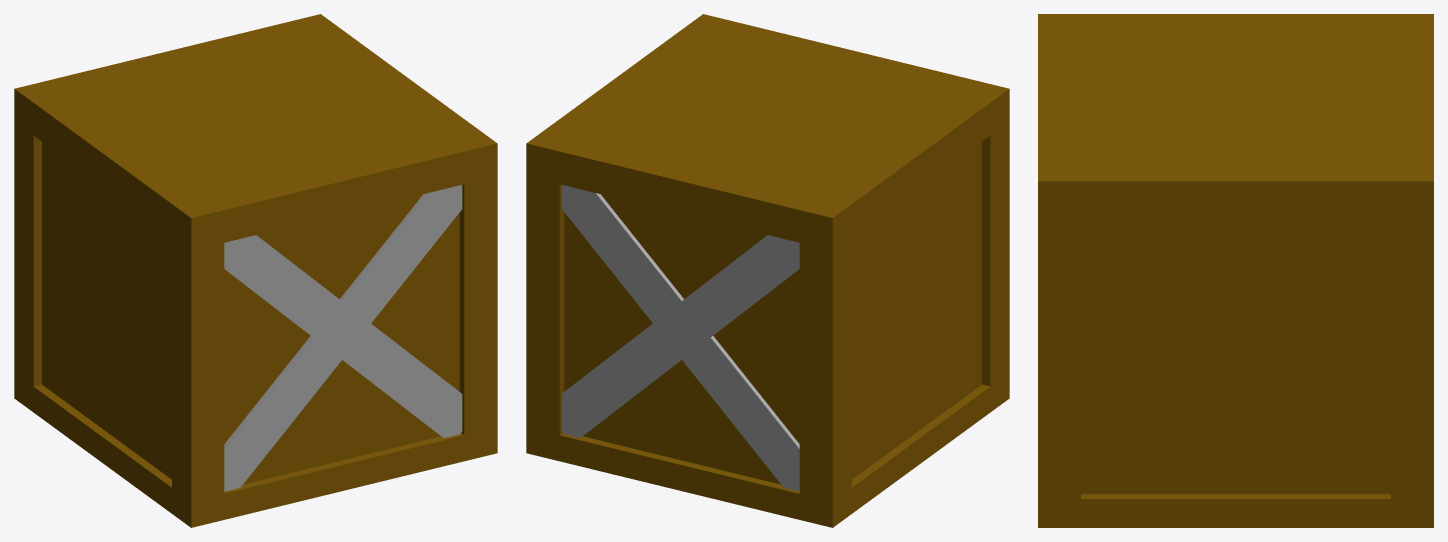
File: Caja Pequeña X.fbx
3 renders of one model, left to right at view 1: azimuth 30°, elevation 25°; view 2: azimuth 150°, elevation 25°; view 3: azimuth 270°, elevation 25°, orthographic. The views are drawn at different scales.
Parts seen in each view (by area): view 1: Caja_x_pequeña; view 2: Caja_x_pequeña; view 3: Caja_x_pequeña.
Part boxes in pixels (x1,y1,x2,y2): Caja_x_pequeña: (14,14,497,527); Caja_x_pequeña: (526,14,1009,527); Caja_x_pequeña: (1038,14,1433,527).
Size of the model in its own units: 11.67 by 11.28 by 11.67.
